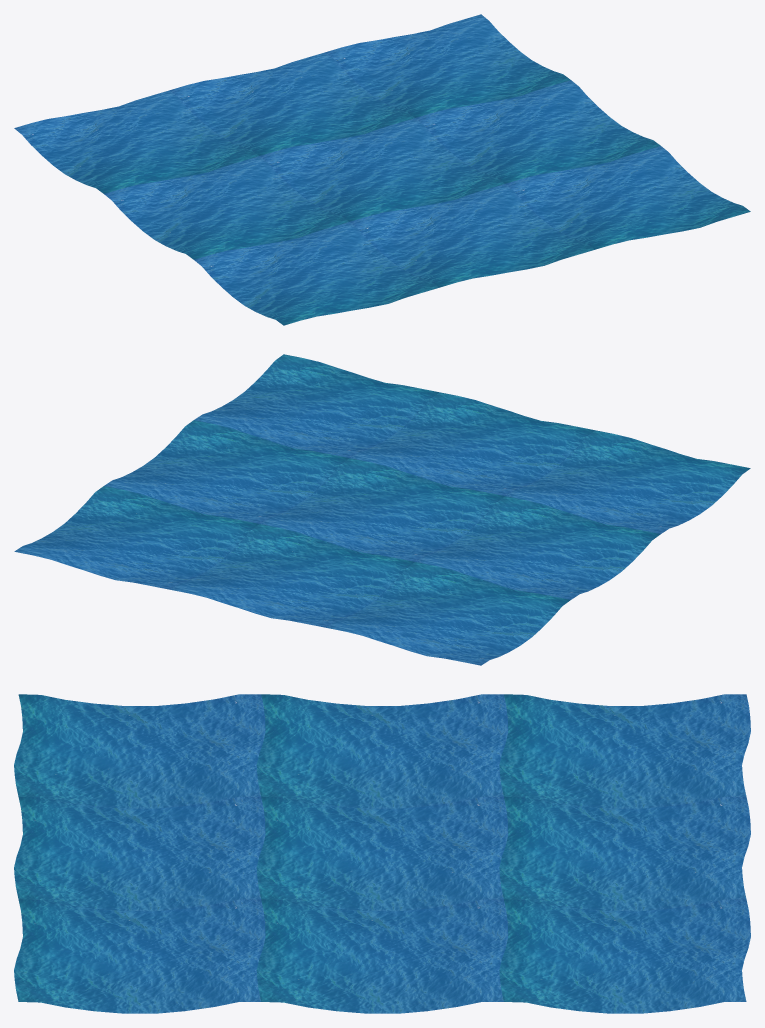
Rendered from ocean_000056.obj.
3 views of the same model, one above another, from view 1: azimuth 30°, elevation 25°; view 2: azimuth 150°, elevation 25°; view 3: azimuth 270°, elevation 25° (orthographic). The views are drawn at different scales.
Visible parts, largest first — view 1: Ocean_Plan.001; view 2: Ocean_Plan.001; view 3: Ocean_Plan.001.
Part boxes in pixels (x1,y1,x2,y2): Ocean_Plan.001: (14, 14, 750, 325); Ocean_Plan.001: (14, 354, 750, 665); Ocean_Plan.001: (14, 694, 750, 1013).
Bounding box in the file's own units: 109146 × 2096 × 110312.
1 material, 1 textured.
